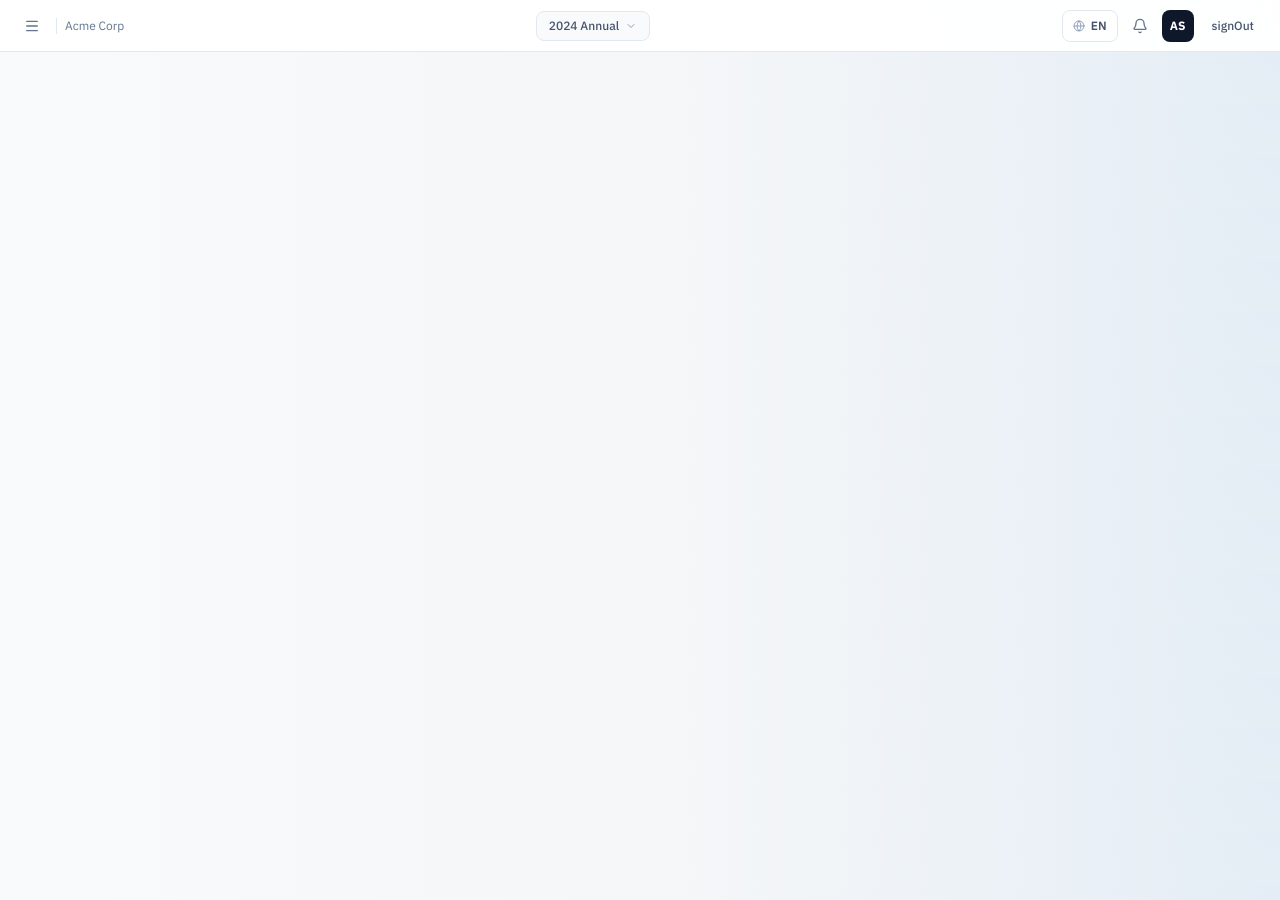
Test: TopBar › renders notification title and body (not message)
Note: Open notification panel.
Click the button named "notifications" at x=1140, y=26, box [1124,10,1156,42]
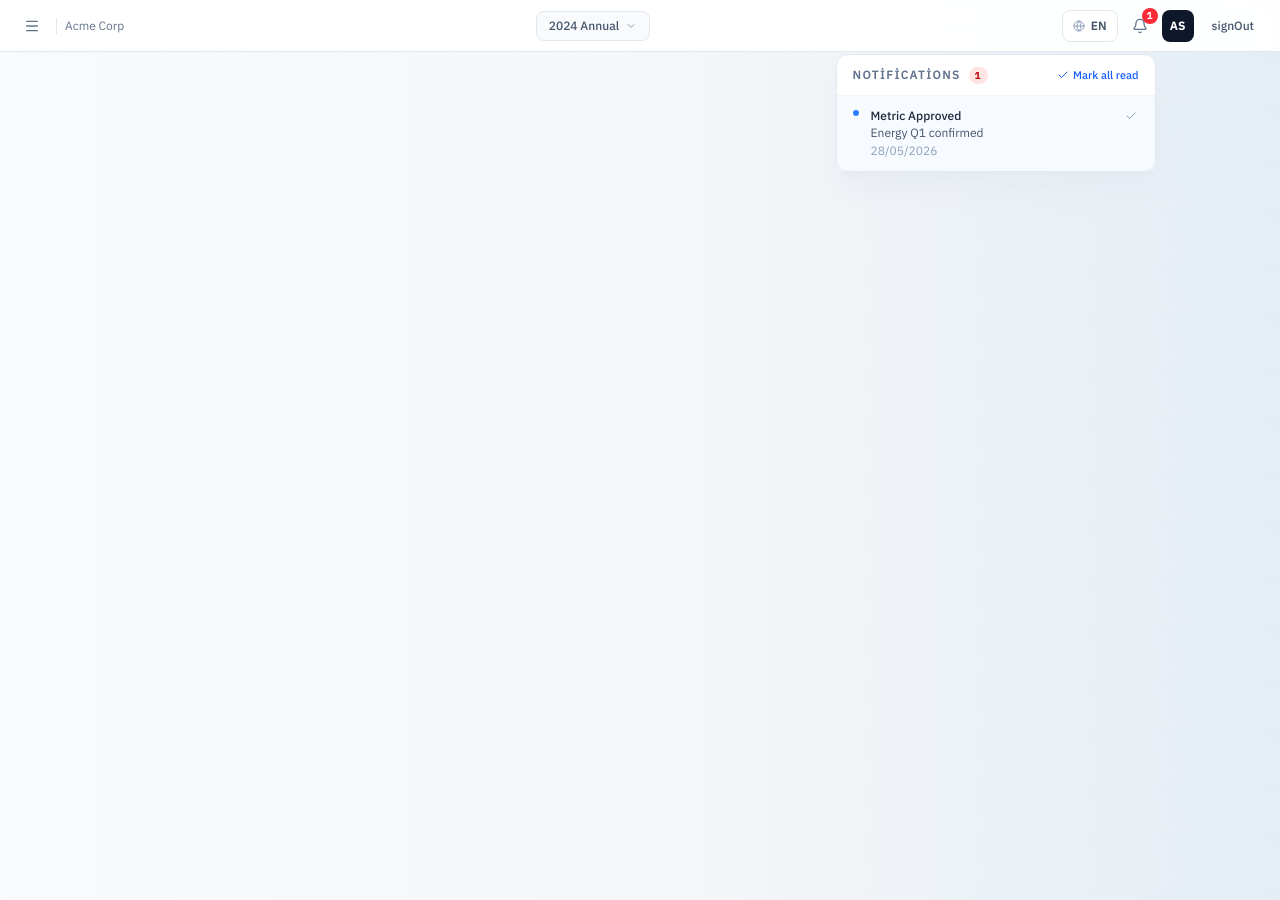
Expected: the text "Metric Approved" is shown, [871,108,961,123]
Expected: the text "Energy Q1 confirmed" is shown, [871,124,984,140]
